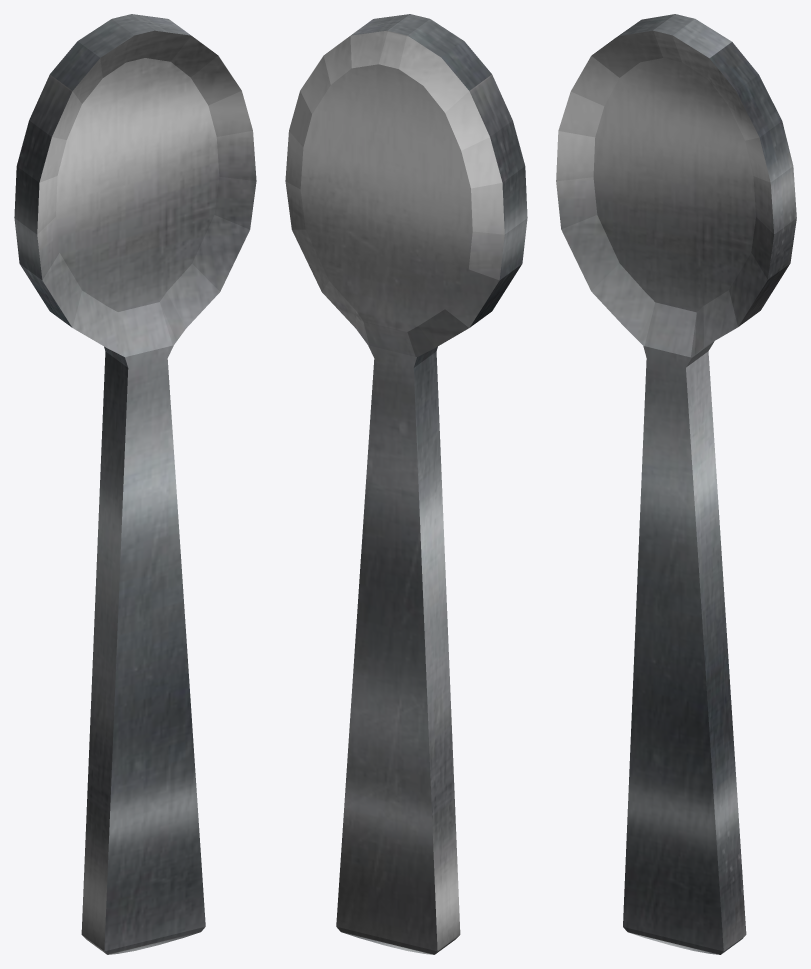
The model's file is Spoon.fbx.
3 views of the same model, side by side, from view 1: azimuth 30°, elevation 25°; view 2: azimuth 150°, elevation 25°; view 3: azimuth 330°, elevation 25° (orthographic).
Visible parts, largest first — view 1: Cube; view 2: Cube; view 3: Cube.
Part boxes in pixels (bbox=[...]): Cube: bbox=[14, 14, 256, 954]; Cube: bbox=[285, 14, 527, 954]; Cube: bbox=[556, 14, 796, 954].
Bounding box in the file's own units: 72.95 × 294 × 17.85.
